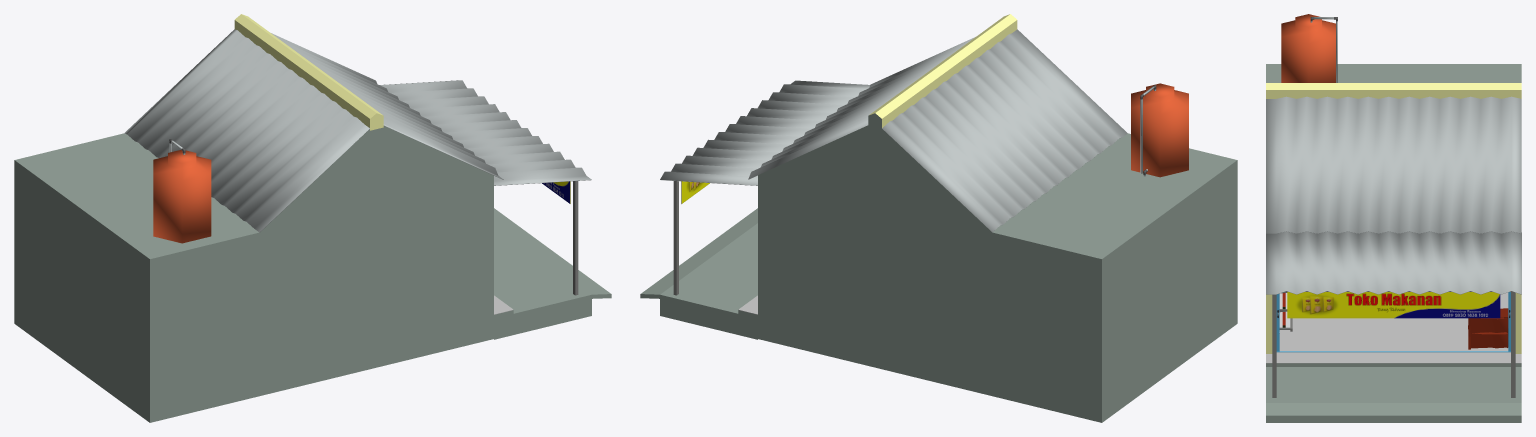
The model's file is Buildings_Stores_TokoSnack_1.fbx.
3 renders of one model, left to right at view 1: azimuth 30°, elevation 25°; view 2: azimuth 150°, elevation 25°; view 3: azimuth 270°, elevation 25°, orthographic. The views are drawn at different scales.
Visible parts, largest first — view 1: Buildings_TokoSnack_1_LOD0; view 2: Buildings_TokoSnack_1_LOD0; view 3: Buildings_TokoSnack_1_LOD0.
Boxes of the visible parts, x1,y1,x2,y2 form: Buildings_TokoSnack_1_LOD0: (14,14,611,422); Buildings_TokoSnack_1_LOD0: (640,14,1237,422); Buildings_TokoSnack_1_LOD0: (1266,14,1521,422).
Size of what is drawn, in the model's own units: 1180 by 624 by 600.
